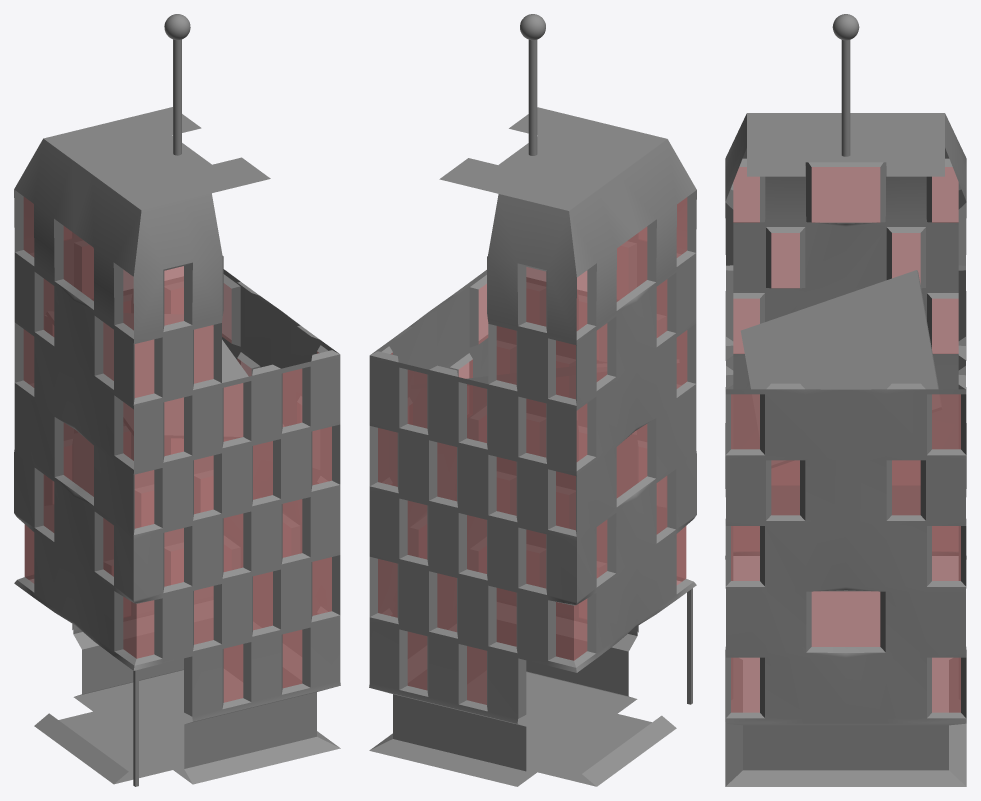
File: BuildingOne.fbx
3 views of the same model, side by side, from view 1: azimuth 30°, elevation 25°; view 2: azimuth 150°, elevation 25°; view 3: azimuth 270°, elevation 25° (orthographic).
Visible parts, largest first — view 1: pCube1, pCube2, pCylinder1, pCube3; view 2: pCube1, pCylinder1, pCube3; view 3: pCube1, pCube2, pCylinder1, pSphere1.
Boxes of the visible parts, <box> form: pCube1: <box>14,107,340,784</box>; pCube2: <box>46,312,284,438</box>; pCylinder1: <box>173,39,181,155</box>; pCube3: <box>133,669,138,786</box>; pCube1: <box>369,107,696,786</box>; pCylinder1: <box>528,39,537,155</box>; pCube3: <box>687,588,692,704</box>; pCube1: <box>725,113,966,786</box>; pCube2: <box>740,270,941,467</box>; pCylinder1: <box>841,40,850,156</box>; pSphere1: <box>832,14,859,40</box>.
Bounding box in the file's own units: 54.86 × 181 × 54.86.
